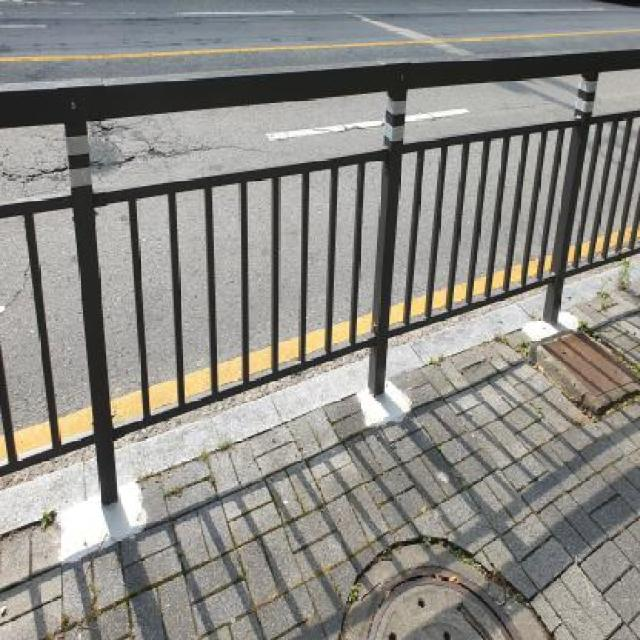fence: (0, 15, 441, 525), (328, 1, 640, 418)
